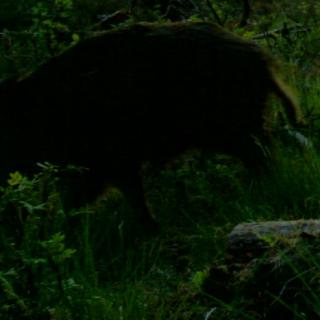Pig: (0, 20, 295, 214)
